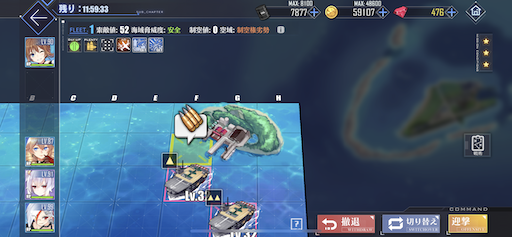lv1: (156, 150, 206, 200)
lv2: (204, 187, 262, 235)
